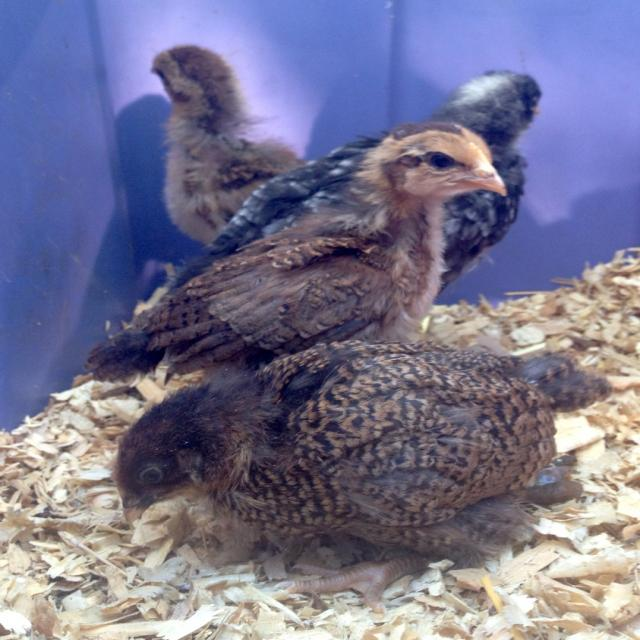Chicken: (88, 67, 547, 410)
